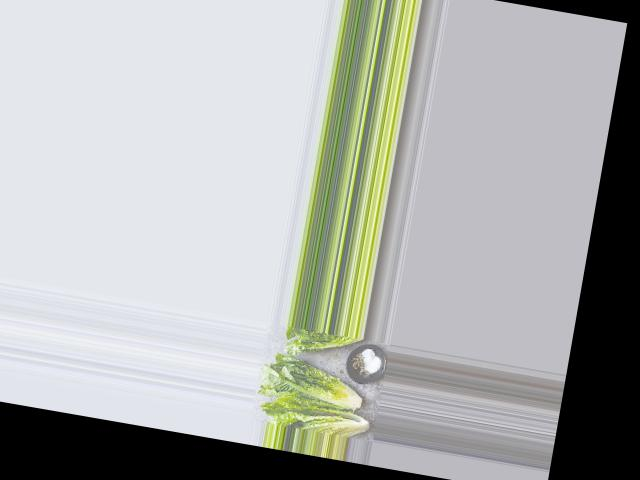lettuce: (266, 394, 378, 441)
